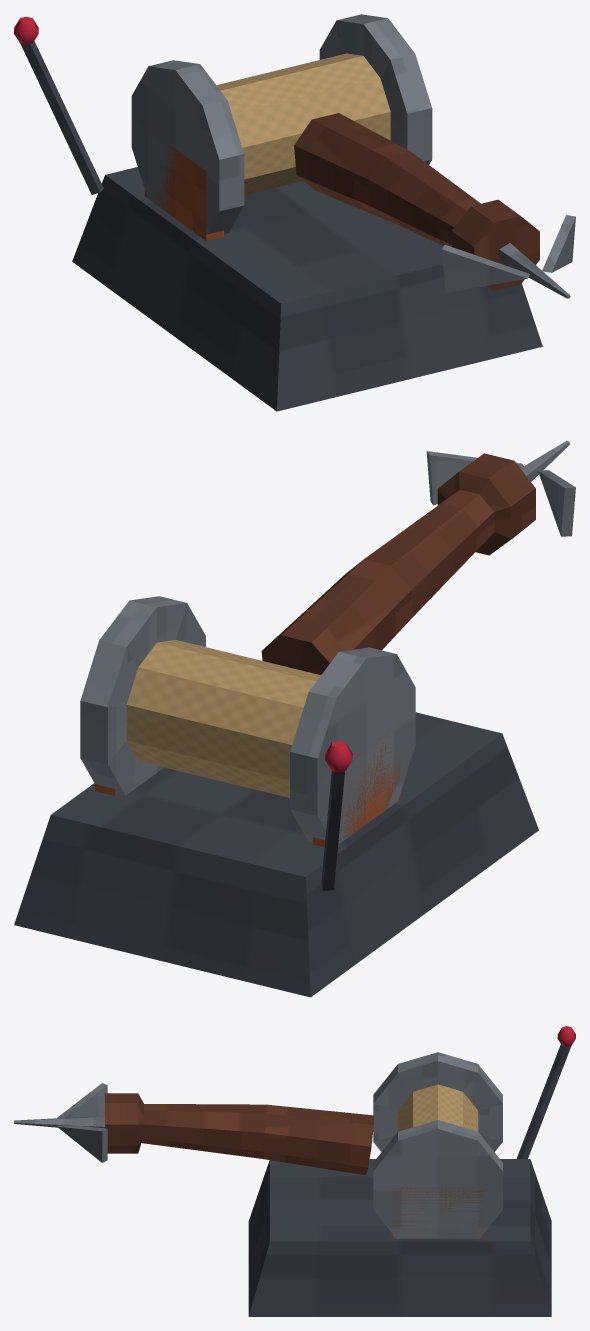
Rendered from SM_Prop_HarpoonWinch_HQ.glb.
3 renders of one model, top to bottom at view 1: azimuth 30°, elevation 25°; view 2: azimuth 150°, elevation 25°; view 3: azimuth 270°, elevation 25°, orthographic. The views are drawn at different scales.
Parts seen in each view (by area): view 1: SM_Prop_HarpoonWinch_HQ; view 2: SM_Prop_HarpoonWinch_HQ; view 3: SM_Prop_HarpoonWinch_HQ.
Part boxes in pixels (bbox=[...]): SM_Prop_HarpoonWinch_HQ: bbox=[14, 14, 575, 411]; SM_Prop_HarpoonWinch_HQ: bbox=[14, 440, 575, 997]; SM_Prop_HarpoonWinch_HQ: bbox=[14, 1026, 575, 1316].
Bounding box in the file's own units: 1.77 × 1.31 × 3.71.
Materials: 1 (1 with a texture image).
